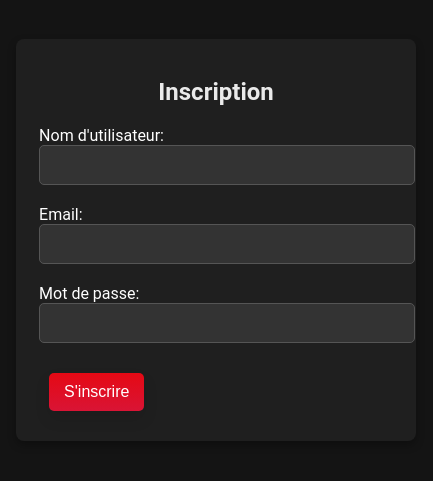
Test: SignUp Component › displays a success message and redirects upon successful signup
Type "testUser" into the field labelled "Nom d'utilisateur:" at (227, 166), box [39,146,415,186]
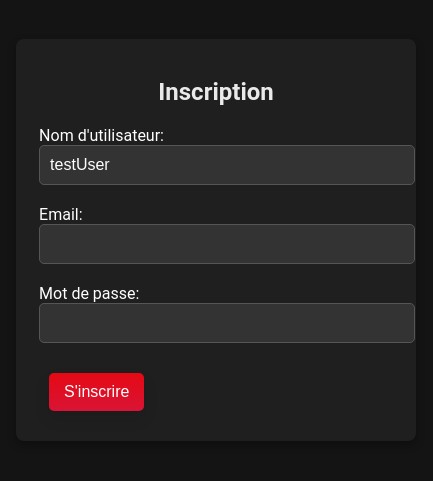
Type "test@example.com" into the field labelled "Email:" at (227, 244), box [39,224,415,264]
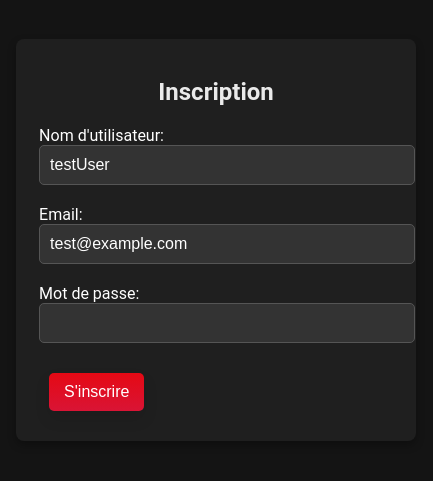
Type "password123" into the password field labelled "Mot de passe:" at (227, 324), box [39,304,415,344]
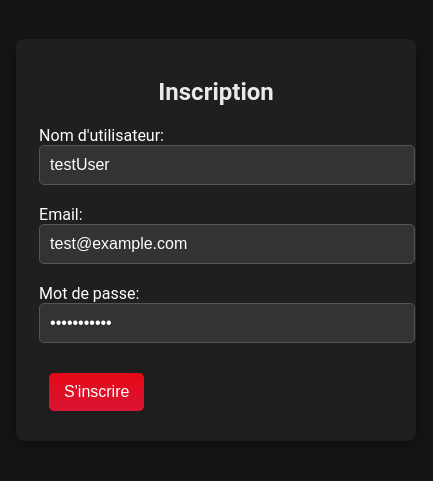
Click the button "S'inscrire" at (97, 392), box [49,374,144,412]
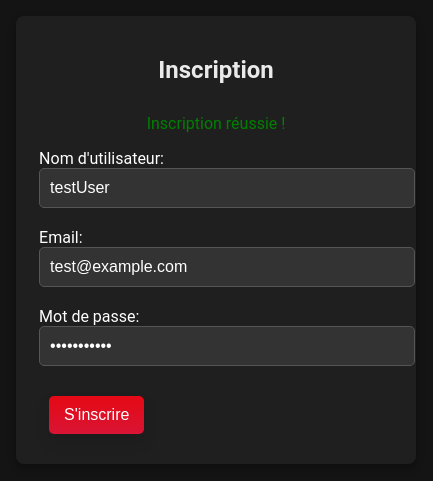
expect the text "Inscription réussie !" is shown: met, box [147,114,285,133]
